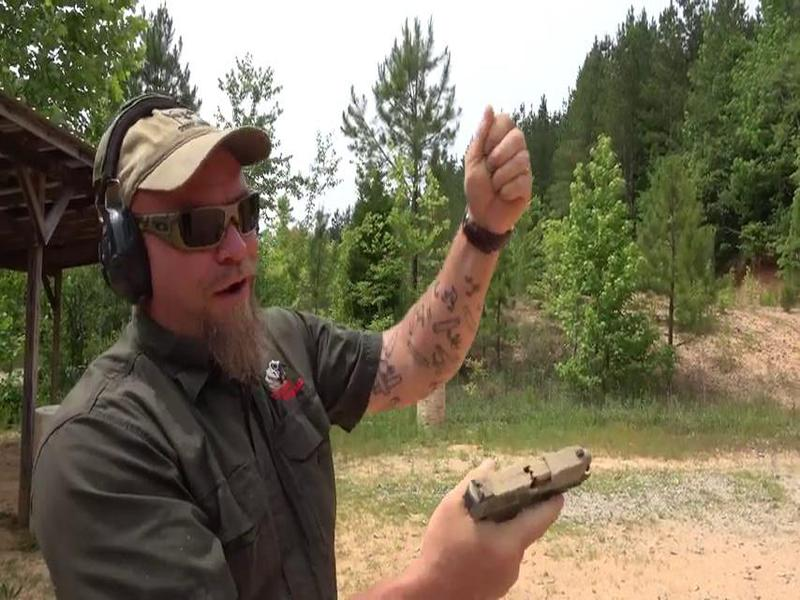Pistola: (411, 429, 633, 562)
